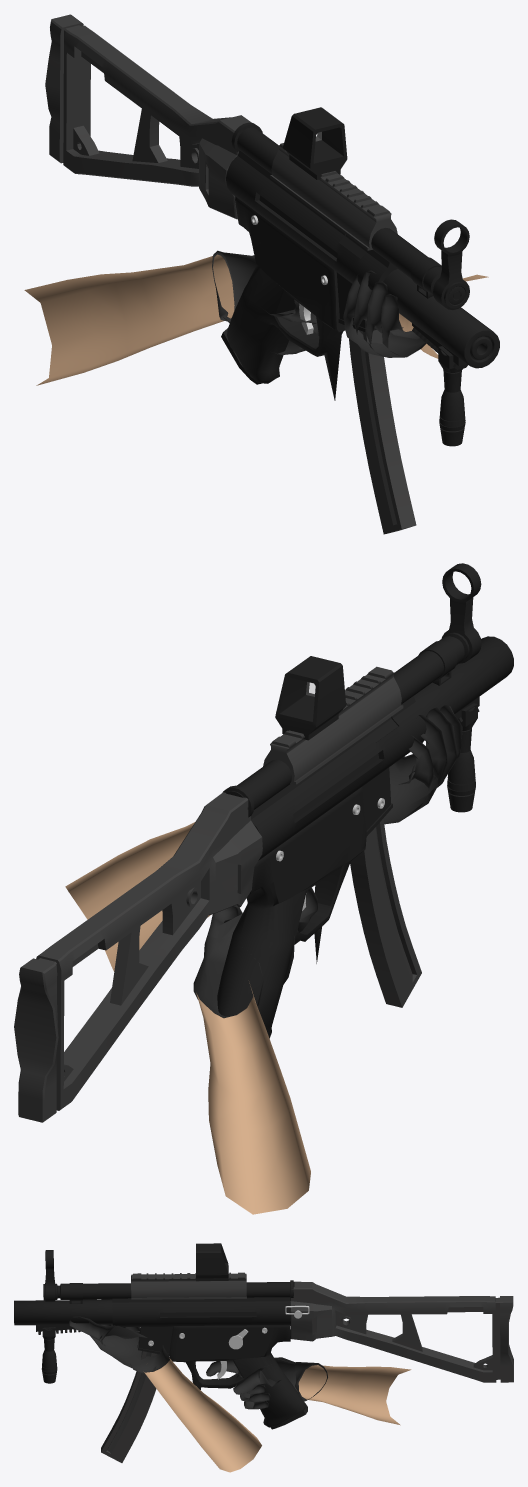
File: mp5-rig-6.glb
The picture shows the model from 3 angles, top to bottom: view 1: azimuth 30°, elevation 25°; view 2: azimuth 150°, elevation 25°; view 3: azimuth 270°, elevation 25°; orthographic projection. The views are drawn at different scales.
Visible parts, largest first — view 1: Plan012.010; view 2: Plan012.010; view 3: Plan012.010.
Boxes of the visible parts, bbox=[...] form: Plan012.010: bbox=[24, 14, 499, 534]; Plan012.010: bbox=[14, 563, 513, 1214]; Plan012.010: bbox=[14, 1243, 513, 1472].
Bounding box in the file's own units: 0.0757 × 0.073 × 0.1546.
